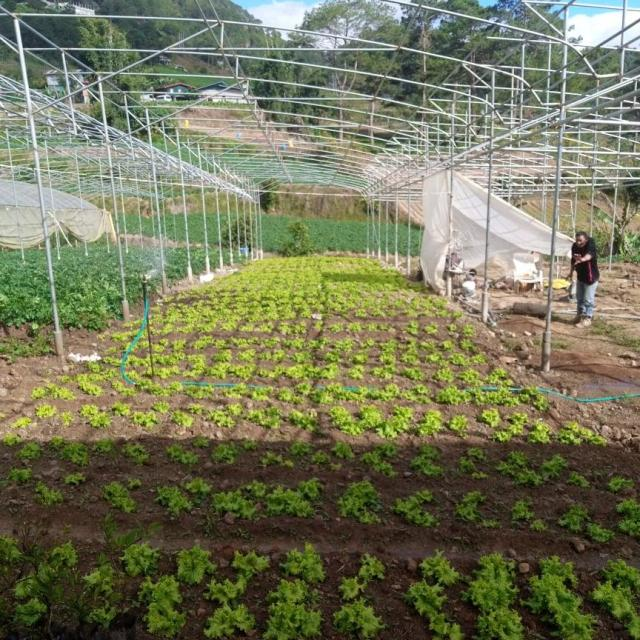Lettuce: (526, 591, 592, 640), (407, 586, 463, 639), (472, 590, 526, 638), (591, 585, 639, 638), (276, 538, 329, 583), (330, 598, 389, 638), (338, 549, 384, 596), (266, 603, 321, 640), (204, 600, 254, 640), (34, 538, 84, 578), (337, 482, 388, 521), (393, 486, 440, 528), (14, 576, 52, 627), (470, 550, 517, 590), (174, 542, 216, 584), (143, 601, 190, 637), (509, 495, 550, 535), (121, 537, 162, 576), (527, 552, 574, 586), (557, 417, 608, 448), (265, 577, 316, 606), (136, 573, 182, 603), (81, 557, 117, 593), (210, 490, 253, 520), (230, 544, 270, 576), (270, 488, 310, 520), (416, 549, 456, 581), (452, 488, 489, 522), (205, 574, 248, 602), (101, 483, 132, 518), (360, 453, 400, 480), (85, 605, 126, 631), (1, 530, 25, 573), (553, 500, 586, 531), (603, 559, 640, 586), (30, 480, 63, 510), (615, 498, 638, 540), (325, 405, 358, 433), (357, 380, 401, 400), (154, 485, 185, 513), (121, 438, 151, 466), (501, 462, 537, 485), (284, 406, 318, 430), (518, 381, 547, 409), (408, 456, 448, 476), (537, 450, 568, 474), (430, 382, 463, 404), (456, 458, 487, 481), (298, 472, 325, 498), (210, 442, 240, 465), (106, 350, 146, 367), (588, 521, 617, 544), (34, 380, 70, 398), (238, 474, 270, 494), (62, 444, 89, 467), (250, 408, 281, 428), (478, 402, 503, 426), (330, 436, 356, 459), (419, 410, 442, 436), (487, 363, 514, 385), (186, 477, 210, 501), (258, 450, 290, 468), (226, 360, 258, 378), (9, 462, 34, 485), (330, 378, 356, 400), (168, 444, 196, 464), (608, 472, 636, 492), (565, 471, 594, 490), (317, 358, 342, 380), (445, 413, 467, 437), (219, 380, 248, 398), (493, 386, 520, 405), (286, 362, 313, 381), (146, 364, 178, 380), (370, 364, 402, 380), (227, 332, 261, 347), (390, 402, 412, 425), (529, 420, 550, 444), (456, 366, 484, 384), (17, 442, 42, 462), (169, 406, 194, 426), (510, 410, 529, 436), (357, 404, 379, 426), (373, 421, 403, 437), (250, 382, 274, 402), (405, 382, 429, 402), (111, 377, 135, 397), (373, 439, 401, 456), (148, 382, 182, 396), (210, 409, 232, 430), (309, 448, 332, 468), (73, 371, 105, 385), (131, 411, 157, 428), (258, 362, 284, 379), (185, 384, 216, 398), (34, 400, 58, 418), (182, 360, 206, 378), (260, 347, 287, 363), (487, 428, 512, 445), (418, 441, 440, 460), (205, 360, 228, 378), (466, 384, 490, 401), (402, 364, 426, 381), (343, 364, 367, 381), (158, 350, 183, 366), (64, 467, 86, 485), (1, 431, 24, 448), (276, 388, 299, 405), (210, 345, 233, 362), (448, 351, 471, 368), (308, 331, 330, 348), (374, 350, 402, 363), (86, 413, 106, 431), (110, 400, 128, 420), (76, 401, 97, 418), (508, 450, 530, 466), (293, 378, 313, 395), (90, 437, 114, 451), (286, 438, 310, 452), (8, 414, 30, 429), (350, 349, 372, 364), (331, 334, 353, 349), (434, 365, 454, 381), (192, 334, 212, 350), (382, 336, 402, 352), (317, 349, 341, 362), (423, 350, 447, 363), (264, 333, 284, 348), (43, 435, 61, 451), (169, 332, 185, 350), (420, 335, 438, 351), (462, 445, 484, 458), (376, 320, 396, 334), (292, 349, 315, 361), (314, 388, 330, 405), (402, 334, 419, 350), (310, 315, 326, 332), (88, 356, 103, 374), (82, 384, 104, 396), (150, 400, 170, 413), (237, 346, 257, 359), (109, 329, 132, 340), (326, 320, 345, 333), (226, 399, 242, 414), (404, 319, 420, 334), (291, 318, 308, 332), (240, 436, 258, 449), (257, 320, 275, 333), (196, 321, 217, 332), (288, 333, 305, 346), (424, 320, 441, 333), (358, 335, 378, 346), (441, 336, 457, 349), (347, 320, 364, 332), (237, 320, 254, 332), (444, 320, 461, 332), (158, 321, 176, 332), (326, 300, 342, 312), (279, 310, 298, 320), (462, 322, 474, 337), (220, 320, 237, 330), (343, 300, 356, 313), (277, 319, 291, 331), (181, 320, 197, 330), (264, 310, 280, 320), (362, 319, 375, 331), (290, 296, 307, 305), (177, 290, 189, 302), (178, 304, 194, 313), (245, 313, 265, 320), (404, 309, 419, 318), (247, 300, 262, 309), (434, 299, 449, 308), (392, 298, 404, 309), (166, 302, 179, 312), (185, 313, 203, 320), (165, 313, 183, 320), (405, 301, 419, 310), (378, 295, 392, 304), (276, 298, 291, 306), (225, 314, 242, 321), (213, 338, 226, 347), (386, 308, 399, 317), (310, 302, 324, 310), (450, 311, 464, 319), (202, 308, 216, 316), (262, 298, 276, 306), (220, 296, 234, 304), (328, 290, 342, 298), (348, 294, 362, 302), (370, 308, 383, 316), (126, 318, 139, 326), (424, 310, 437, 318), (235, 295, 248, 303), (356, 307, 366, 317), (211, 314, 225, 321), (438, 308, 450, 316), (152, 314, 164, 322), (138, 340, 150, 348), (415, 296, 427, 304), (422, 302, 434, 310), (234, 307, 247, 314), (234, 302, 247, 309), (193, 300, 204, 308), (206, 291, 217, 299), (363, 294, 374, 302), (249, 307, 263, 313), (222, 307, 234, 314), (152, 305, 164, 312), (158, 337, 170, 344), (120, 342, 132, 349), (154, 343, 164, 351), (207, 299, 220, 305), (302, 308, 310, 316), (190, 287, 198, 294)
